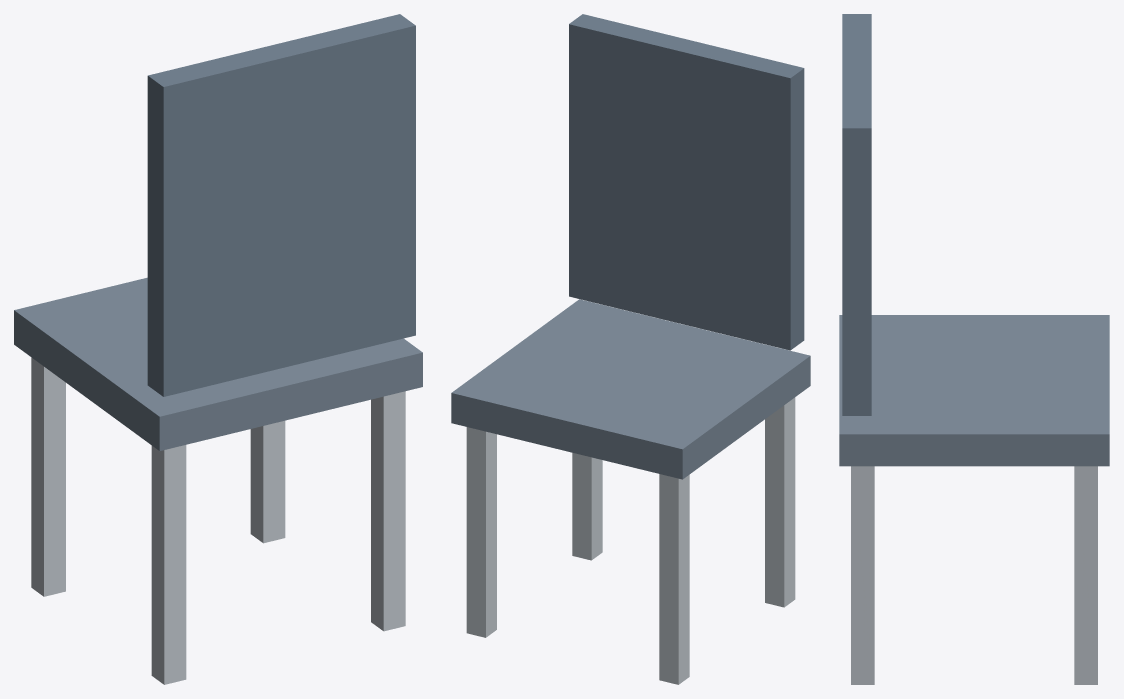
The model's file is office_chair.glb.
3 renders of one model, left to right at view 1: azimuth 30°, elevation 25°; view 2: azimuth 150°, elevation 25°; view 3: azimuth 270°, elevation 25°, orthographic. The views are drawn at different scales.
Size of the model in its own units: 0.48 by 1.05 by 0.46.
